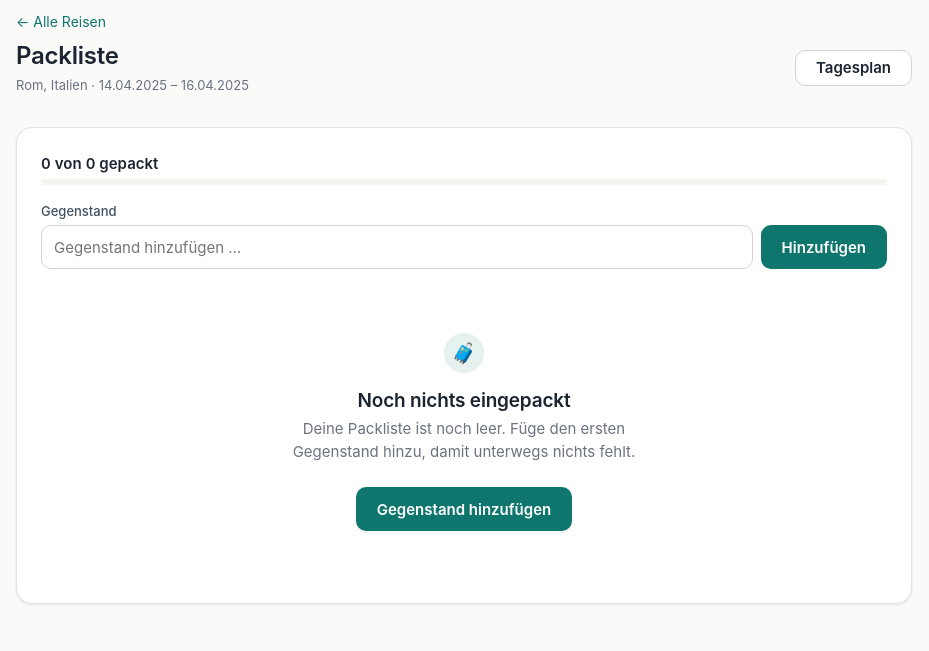
Test: PackingPage › keeps the empty-input error deferred until the form was submitted
expect the text "Bitte einen Gegenstand eingeben." is not shown: met
Click the button "Hinzufügen" at x=824, y=247, box [761, 225, 887, 269]
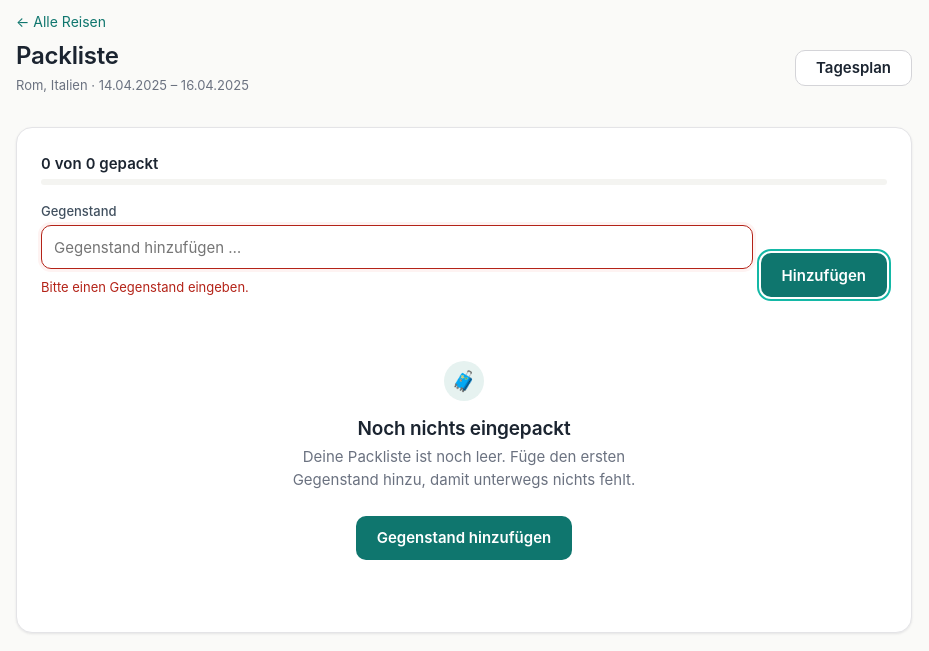
expect the text "0 von 0 gepackt" is shown: met, box [41, 154, 158, 173]
expect the text "Bitte einen Gegenstand eingeben." is shown: met, box [41, 279, 249, 295]
